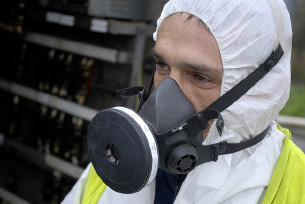face_mask: (152, 19, 226, 148)
